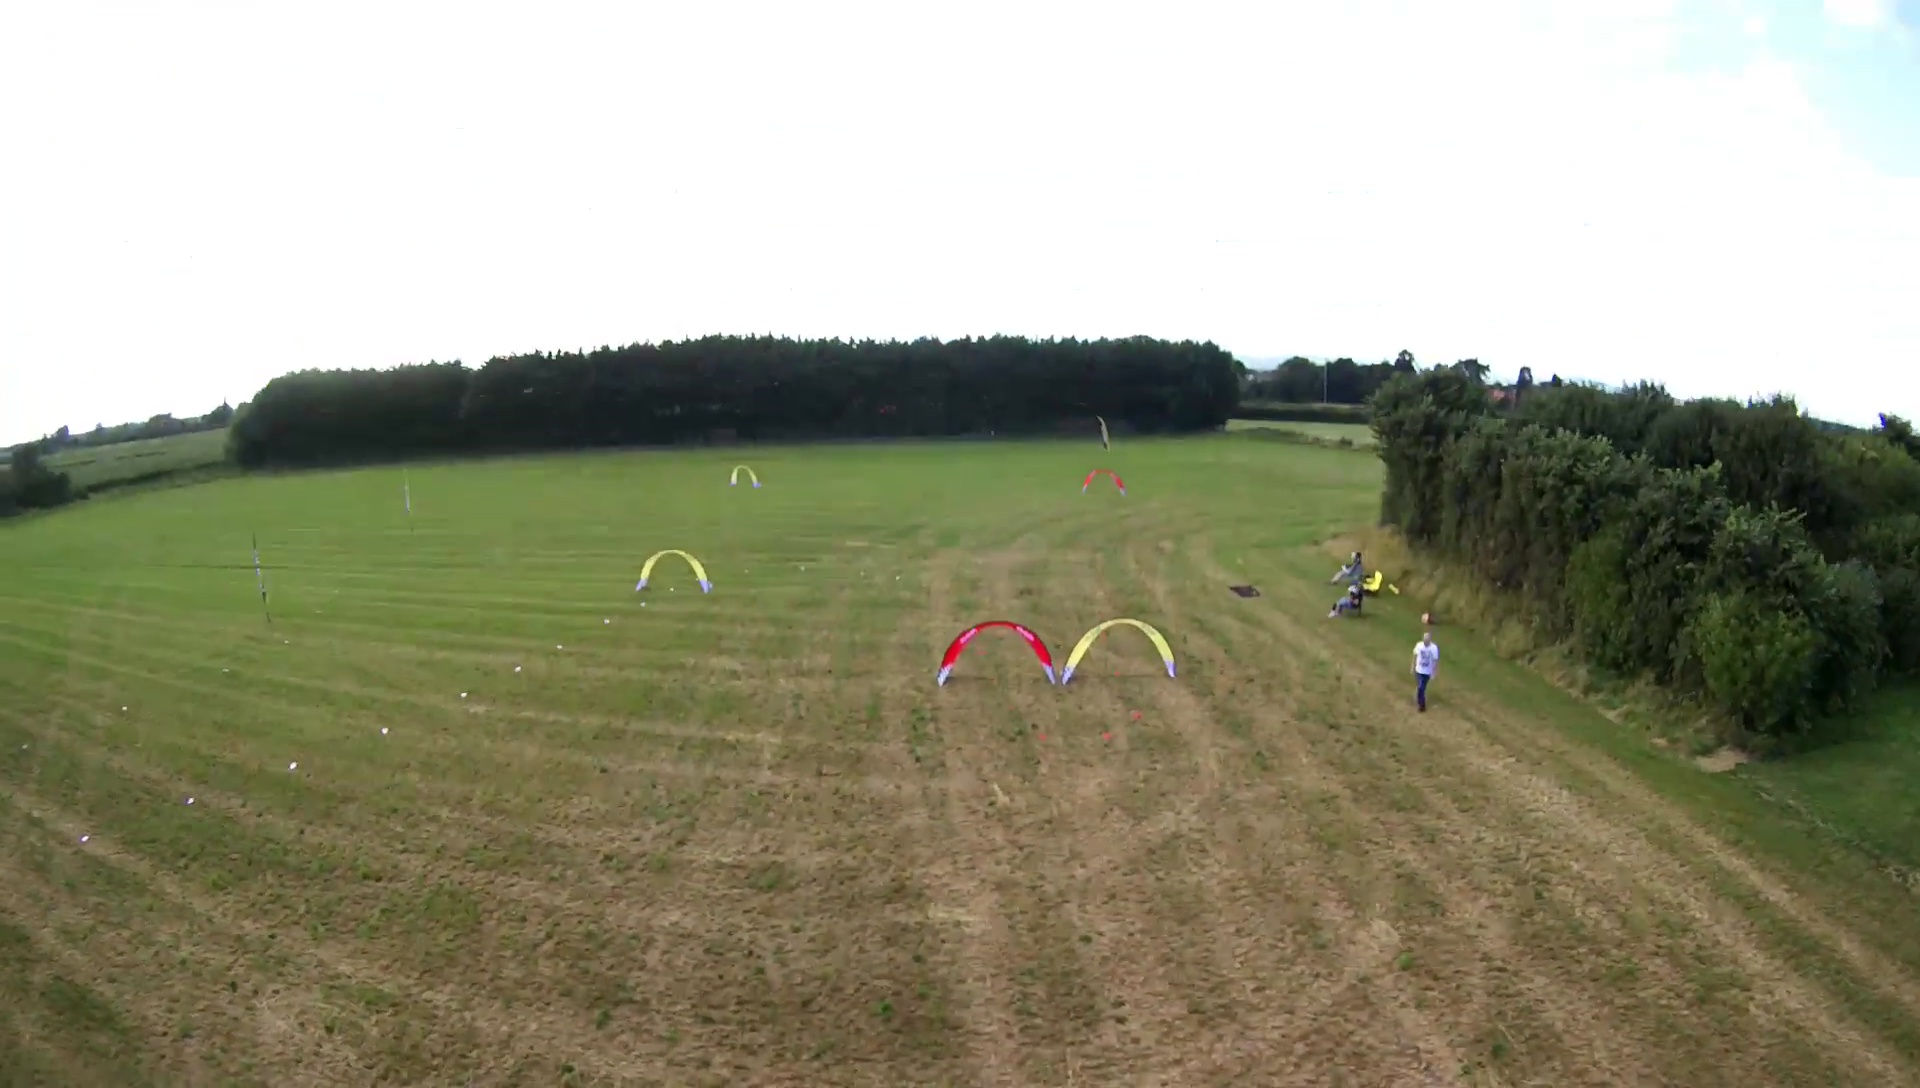gate: (936, 620, 1058, 688), (1067, 617, 1180, 683), (636, 549, 713, 593), (1077, 466, 1131, 502), (727, 464, 761, 488)
